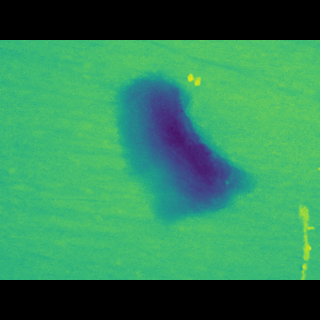Loch: (115, 93, 263, 208), (286, 191, 316, 250)
